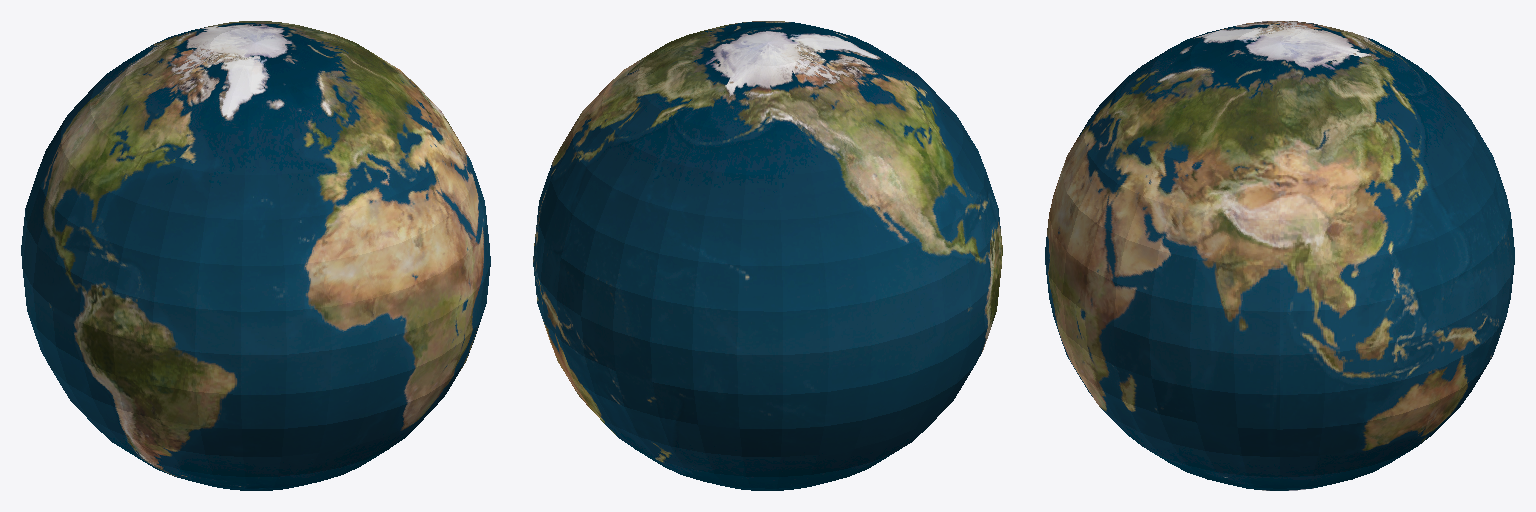
3 views of the same model, side by side, from view 1: azimuth 30°, elevation 25°; view 2: azimuth 150°, elevation 25°; view 3: azimuth 270°, elevation 25° (orthographic).
Visible parts, largest first — view 1: Sphere001; view 2: Sphere001; view 3: Sphere001.
Boxes of the visible parts, <box> form: Sphere001: <box>21,21,490,490</box>; Sphere001: <box>533,21,1002,490</box>; Sphere001: <box>1045,21,1514,490</box>.
Size of the model in its own units: 62.99 by 62.99 by 62.99.
1 materials, 1 textured.